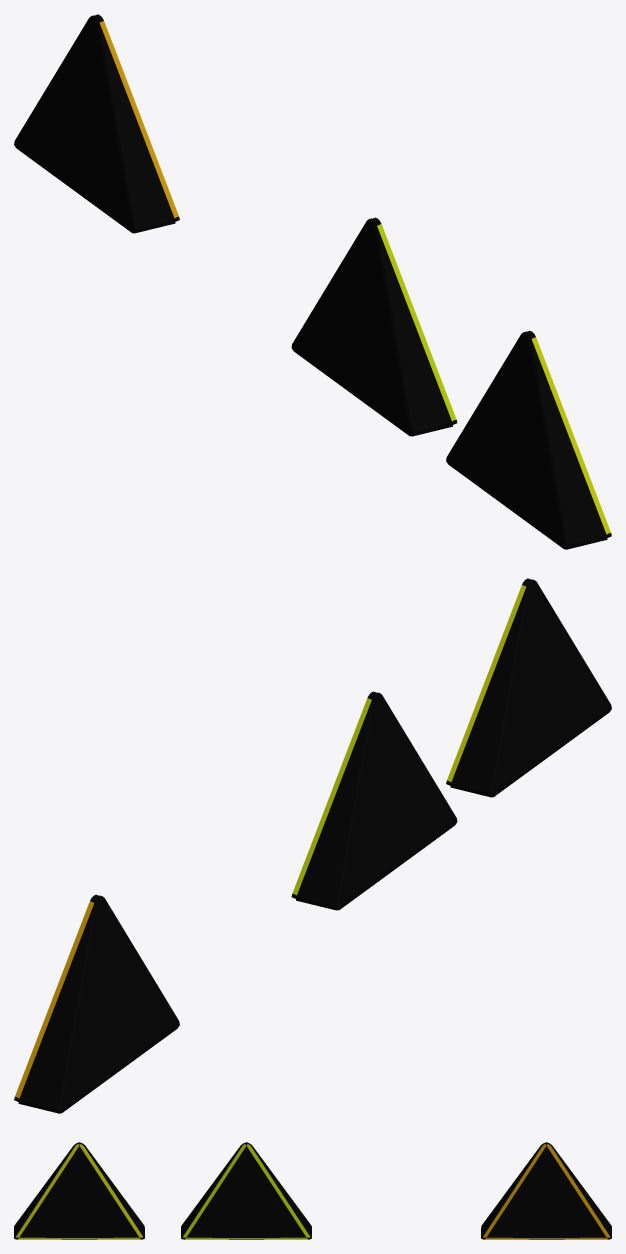
Rendered from Signs simple triangle.fbx.
The picture shows the model from 3 angles, top to bottom: view 1: azimuth 30°, elevation 25°; view 2: azimuth 150°, elevation 25°; view 3: azimuth 270°, elevation 25°; orthographic projection. The views are drawn at different scales.
Parts seen in each view (by area): view 1: Cube.001 (×2), Cube.002 (×2), Cube (×2); view 2: Cube.001 (×2), Cube.002 (×2), Cube (×2); view 3: Cube.001 (×2), Cube.002 (×2), Cube (×2).
Part boxes in pixels (<box>): Cube.001 (×2): <box>446,330,611,549</box>; Cube.002 (×2): <box>14,14,179,233</box>; Cube (×2): <box>291,217,457,436</box>; Cube.001 (×2): <box>446,578,611,797</box>; Cube.002 (×2): <box>14,894,179,1113</box>; Cube (×2): <box>291,691,457,910</box>; Cube.001 (×2): <box>14,1142,144,1239</box>; Cube.002 (×2): <box>481,1142,611,1239</box>; Cube (×2): <box>181,1142,311,1239</box>.
Size of the model in its own units: 62.47 by 213 by 1260.
